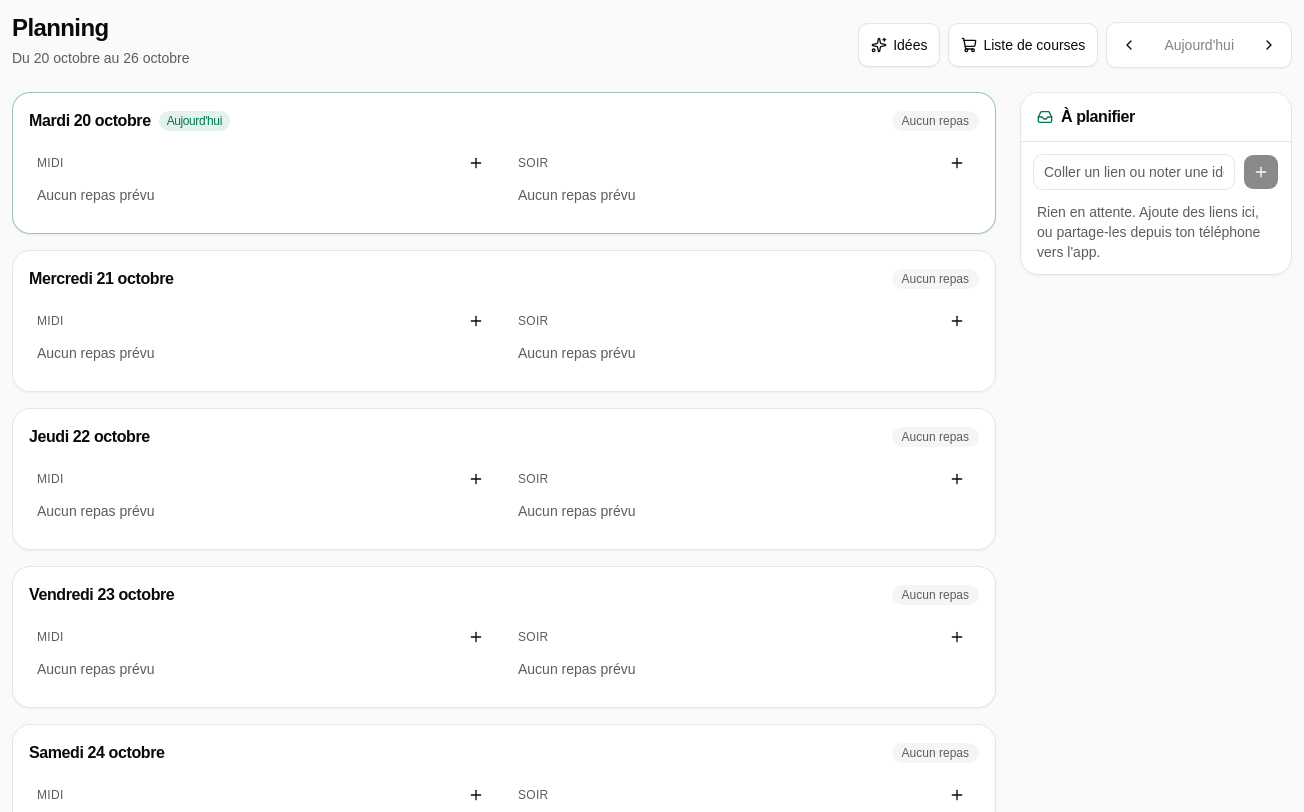
Test case: PlanningPage › navigue de 7 jours en 7 jours et revient à aujourd’hui
Expected: the button "Aujourd'hui" is disabled, top-left (1151, 27), bottom-right (1247, 63)
Click the button named "Semaine suivante". click: (1269, 45)
box: top-left (1251, 27), bottom-right (1287, 63)
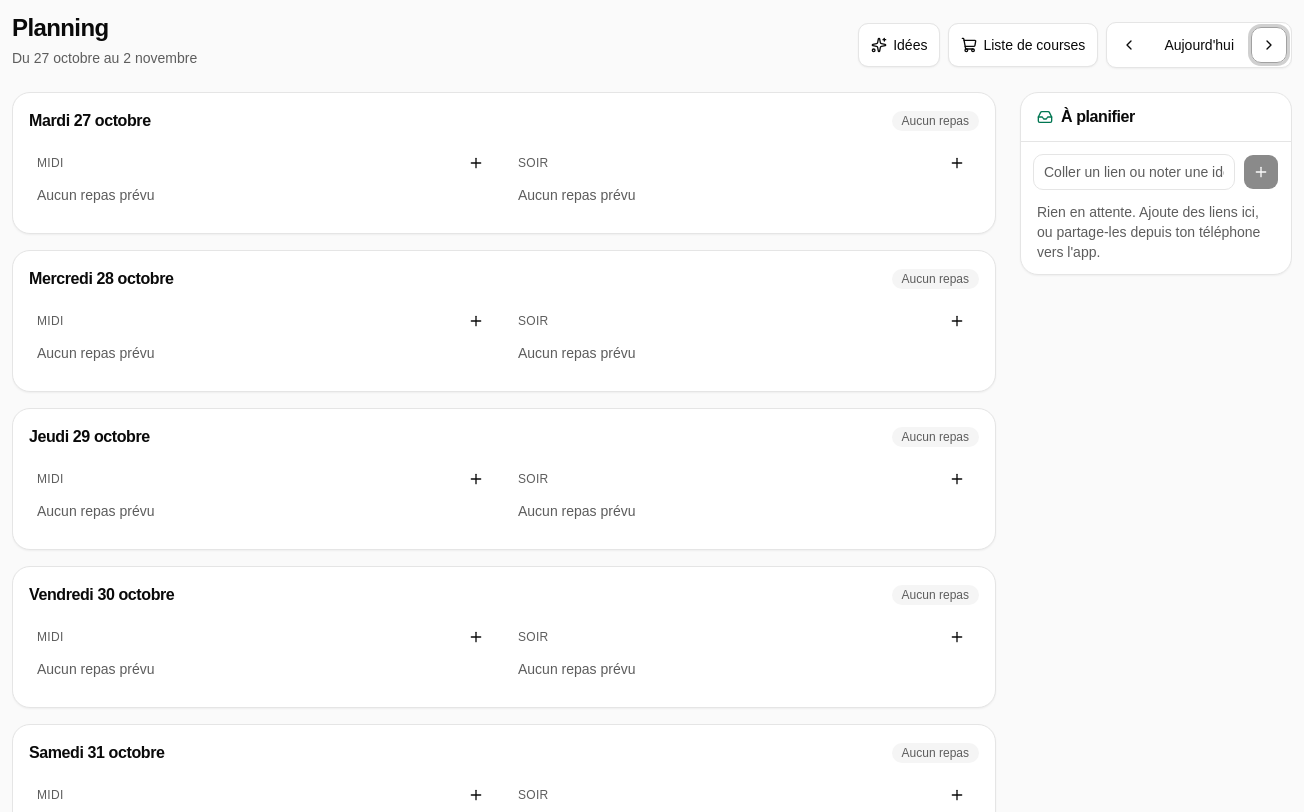
Expected: the text "Du 27 octobre au 2 novembre" is shown, top-left (12, 48), bottom-right (197, 68)
Click the button named "Semaine précédente". click: (1129, 45)
box: top-left (1111, 27), bottom-right (1147, 63)
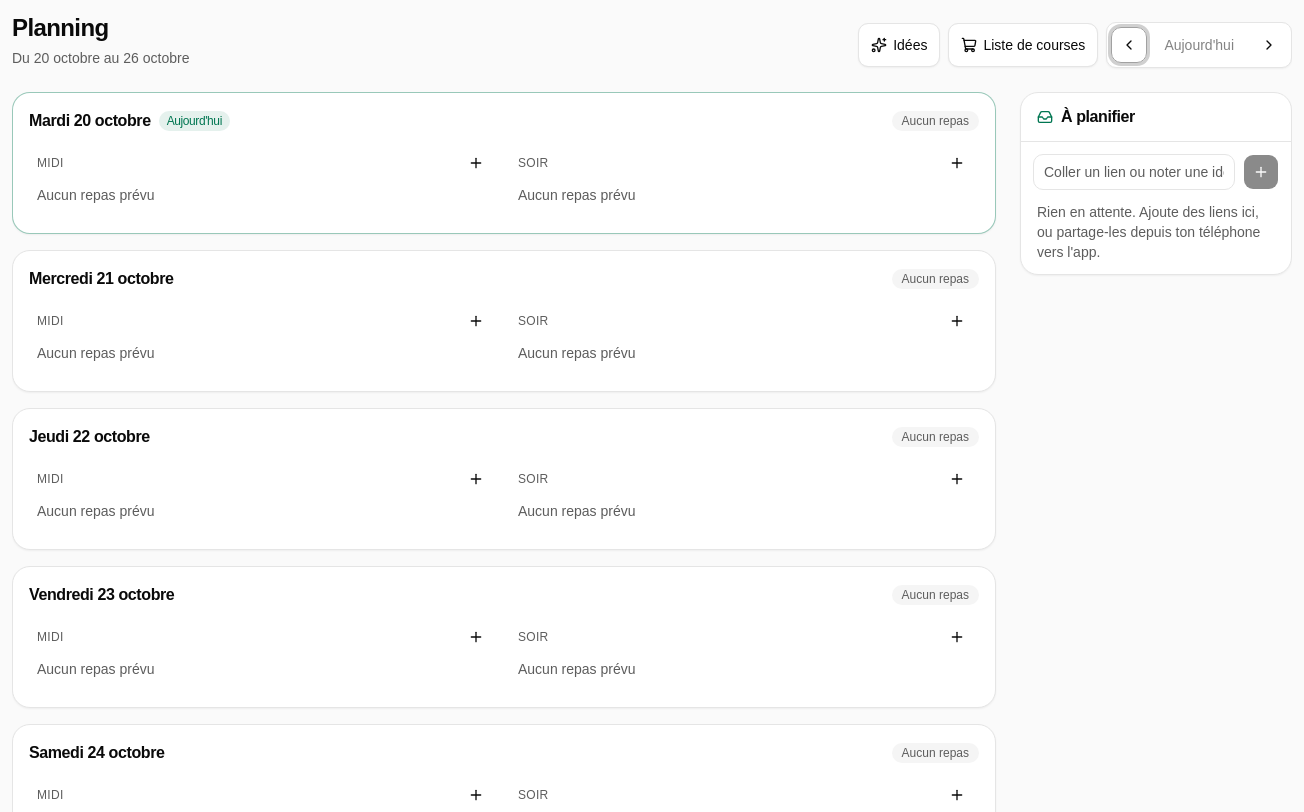
Click the button named "Semaine précédente". click: (1129, 45)
box: top-left (1111, 27), bottom-right (1147, 63)
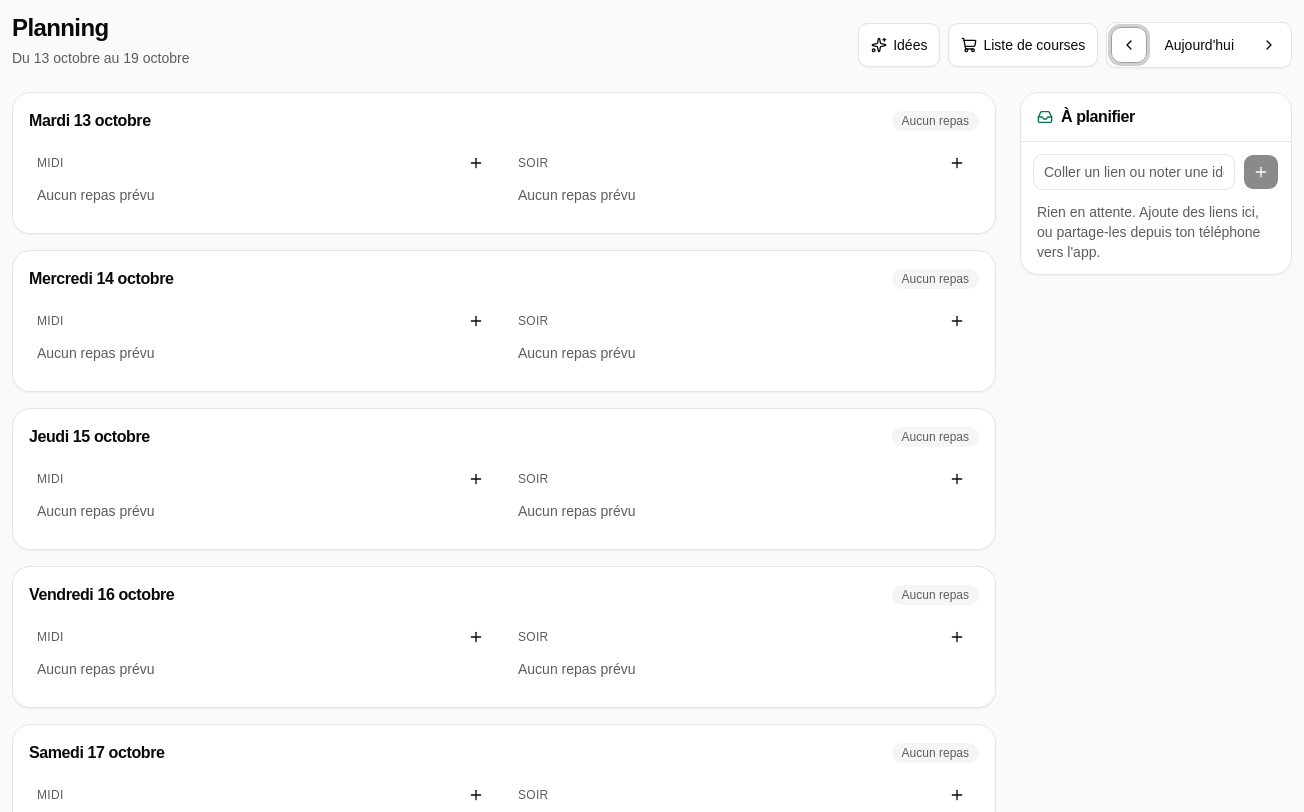
Expected: the text "Du 13 octobre au 19 octobre" is shown, top-left (12, 48), bottom-right (190, 68)
Click the button "Aujourd'hui". click: (1199, 45)
box: top-left (1151, 27), bottom-right (1247, 63)
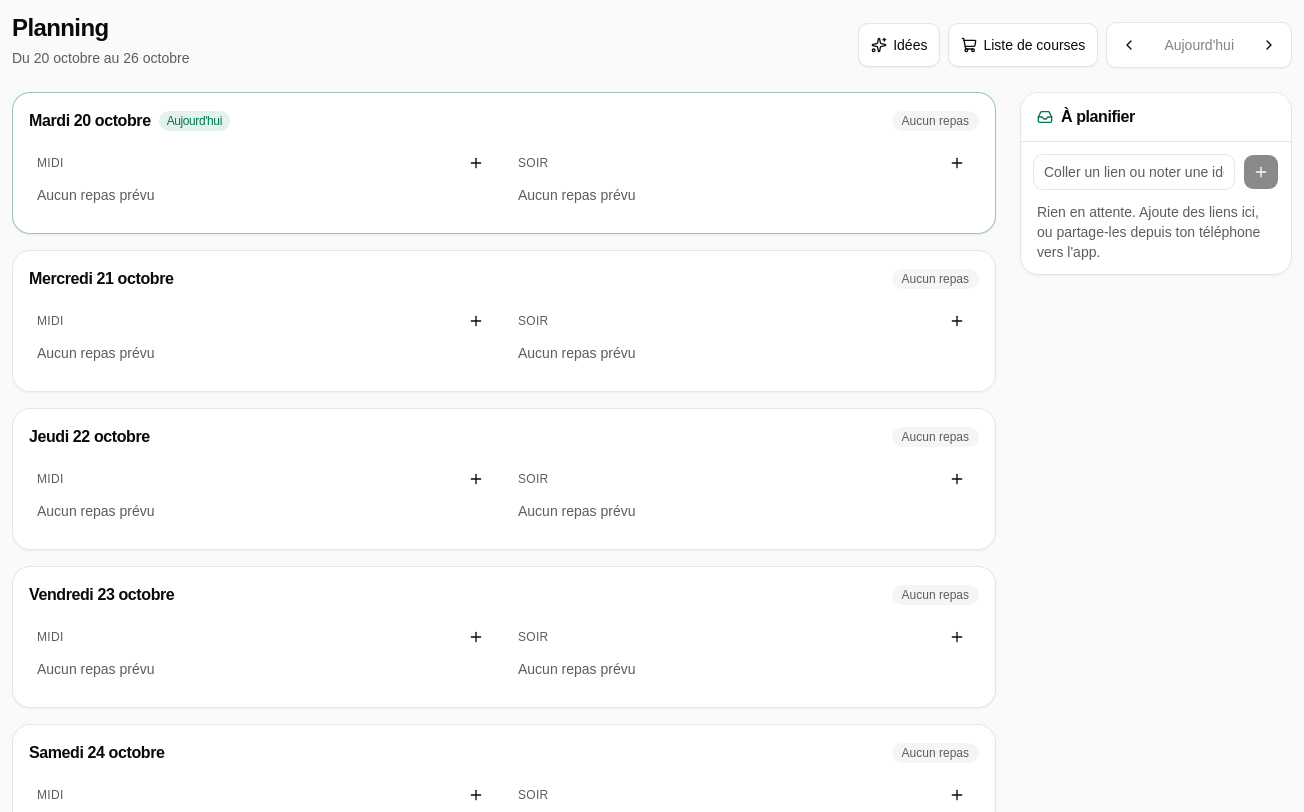
Expected: the text "Du 20 octobre au 26 octobre" is shown, top-left (12, 48), bottom-right (190, 68)
